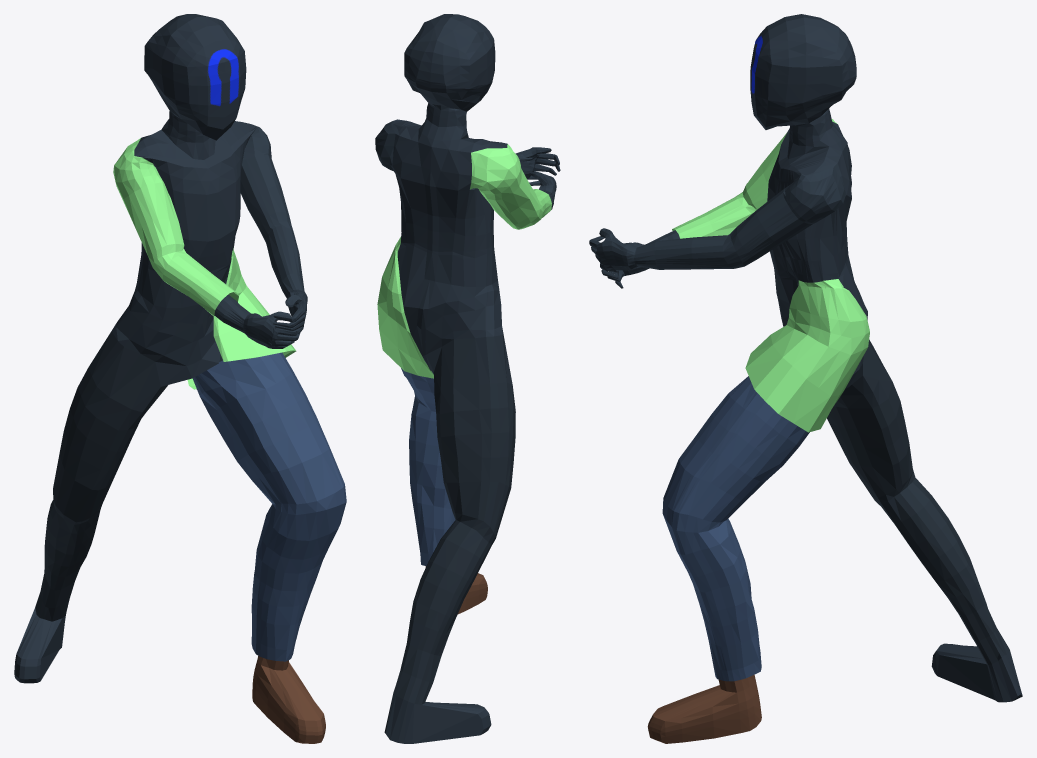
File: Mar_WL_000004.obj
3 renders of one model, left to right at view 1: azimuth 30°, elevation 25°; view 2: azimuth 150°, elevation 25°; view 3: azimuth 270°, elevation 25°, orthographic. The views are drawn at different scales.
Visible parts, largest first — view 1: Cube.000_Cube.001; view 2: Cube.000_Cube.001; view 3: Cube.000_Cube.001.
Boxes of the visible parts, x1,y1,x2,y2 form: Cube.000_Cube.001: [14, 14, 346, 743]; Cube.000_Cube.001: [375, 14, 560, 743]; Cube.000_Cube.001: [589, 14, 1022, 743].
Size of the model in its own units: 1.12 by 3.71 by 2.07.
